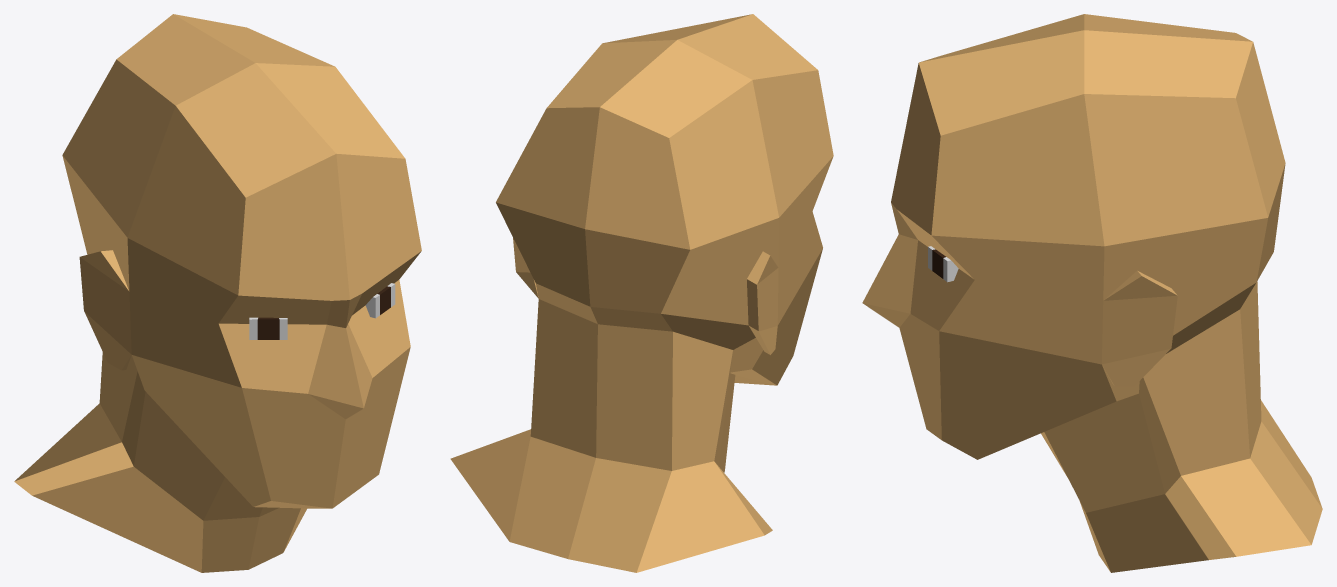
3 views of the same model, side by side, from view 1: azimuth 30°, elevation 25°; view 2: azimuth 150°, elevation 25°; view 3: azimuth 270°, elevation 25° (orthographic). The views are drawn at different scales.
Parts seen in each view (by area): view 1: Cube, Cube.001; view 2: Cube; view 3: Cube, Cube.001.
Boxes of the visible parts, x1=… form: Cube: x1=14, y1=14, x2=421, y2=572; Cube.001: x1=249, y1=283, x2=395, y2=339; Cube: x1=450, y1=14, x2=833, y2=572; Cube: x1=862, y1=14, x2=1322, y2=572; Cube.001: x1=928, y1=246, x2=958, y2=282.
Bounding box in the file's own units: 2.12 × 3.1 × 2.46.
